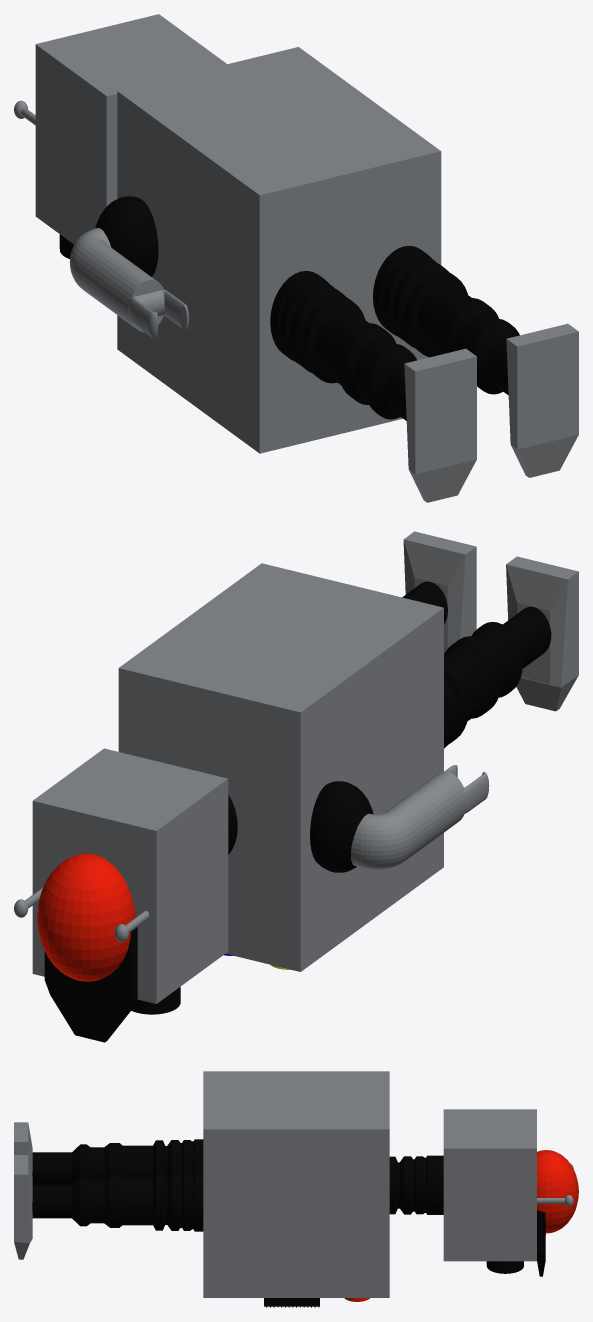
File: RobotMissingArm.fbx
3 renders of one model, top to bottom at view 1: azimuth 30°, elevation 25°; view 2: azimuth 150°, elevation 25°; view 3: azimuth 270°, elevation 25°, orthographic. The views are drawn at different scales.
Visible parts, largest first — view 1: RobotMissingArm; view 2: RobotMissingArm; view 3: RobotMissingArm.
Part boxes in pixels (box(x1,y1,x2,y2)): RobotMissingArm: box(14, 14, 578, 502); RobotMissingArm: box(14, 531, 578, 1042); RobotMissingArm: box(14, 1071, 578, 1307).
Size of the model in its own units: 12.58 by 13.28 by 36.4.
